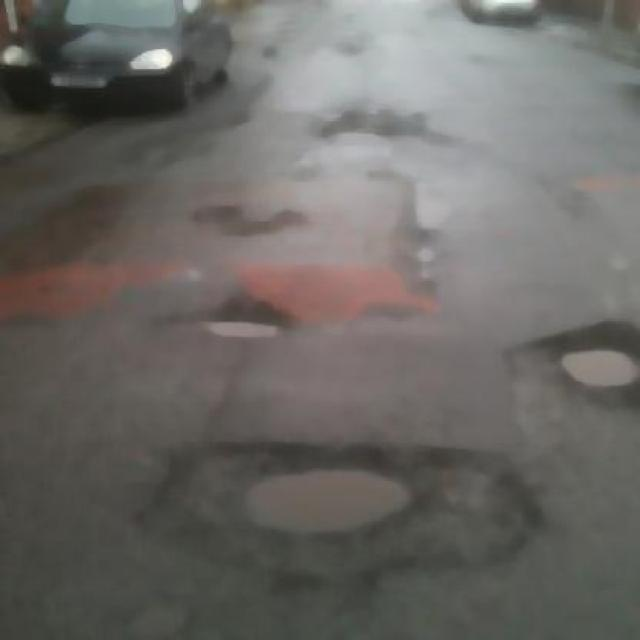Pothole: (190, 411, 416, 557), (543, 263, 639, 425)
